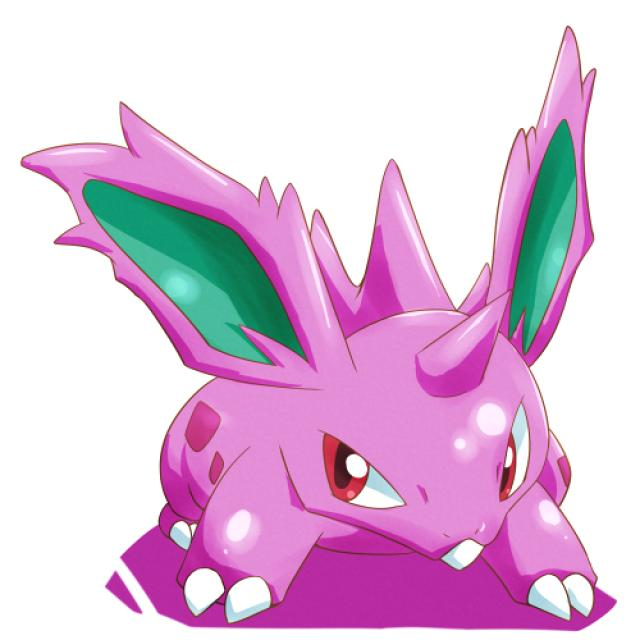Nidorino: (104, 106, 606, 622)
